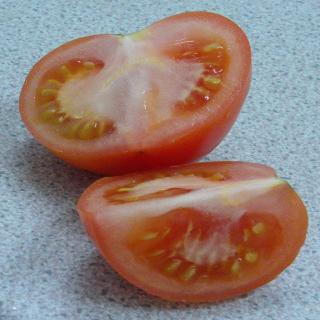tomato: (20, 11, 254, 179), (75, 161, 308, 302)
